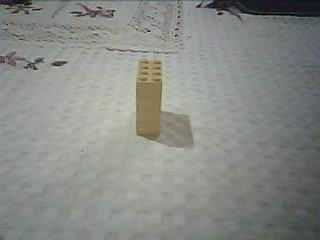lego: (134, 58, 163, 138)
